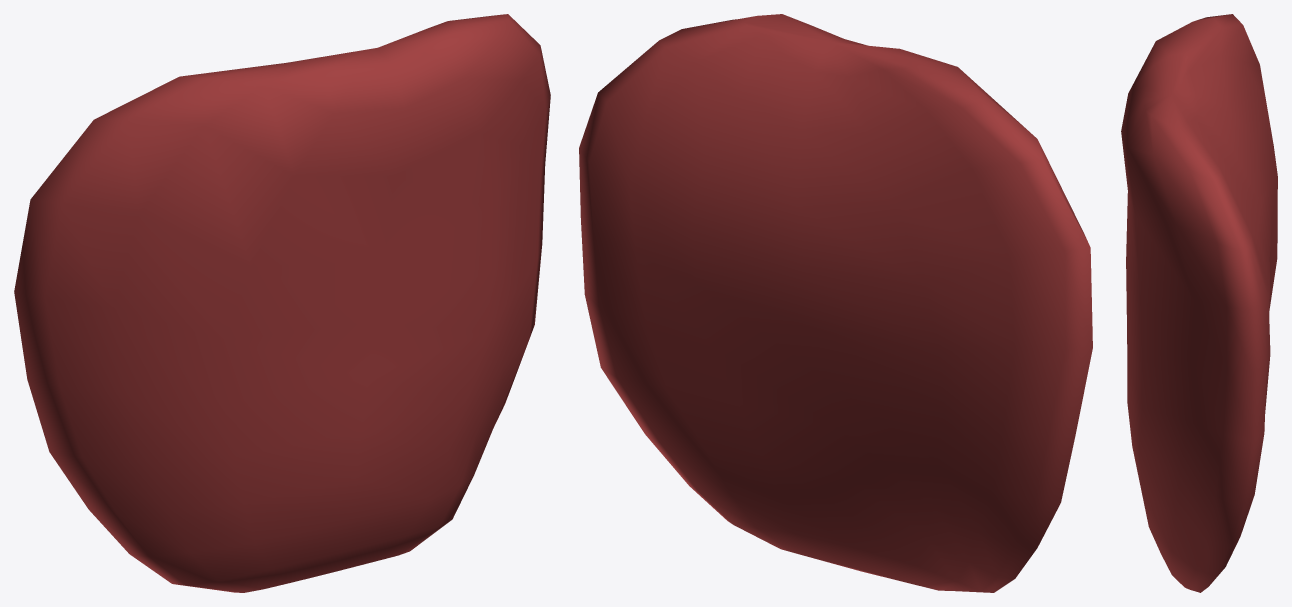
The model's file is subcutaneous-infrapatellar-bursa-r.glb.
3 views of the same model, side by side, from view 1: azimuth 30°, elevation 25°; view 2: azimuth 150°, elevation 25°; view 3: azimuth 270°, elevation 25° (orthographic). The views are drawn at different scales.
Parts seen in each view (by area): view 1: Subcutaneous infrapatellar bursa.r; view 2: Subcutaneous infrapatellar bursa.r; view 3: Subcutaneous infrapatellar bursa.r.
Part boxes in pixels (x1=…): Subcutaneous infrapatellar bursa.r: x1=14, y1=14, x2=550, y2=592; Subcutaneous infrapatellar bursa.r: x1=579, y1=14, x2=1092, y2=592; Subcutaneous infrapatellar bursa.r: x1=1121, y1=14, x2=1277, y2=592.
Size of the model in its own units: 0.0245 by 0.0233 by 0.00683.
